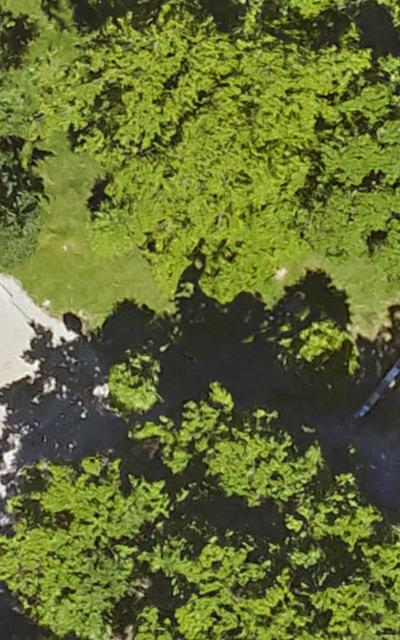tree: (83, 3, 360, 290), (142, 396, 396, 639), (1, 459, 153, 634), (291, 42, 400, 268), (1, 0, 113, 152), (1, 144, 40, 267), (105, 351, 161, 413)
